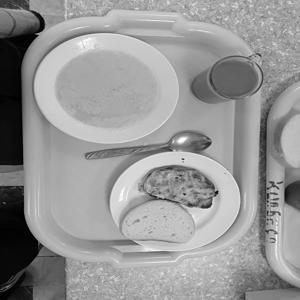bread: (120, 191, 202, 252)
cheese_sandwich: (136, 161, 222, 213)
coffee: (188, 46, 265, 121)
porridge: (46, 38, 171, 142)
